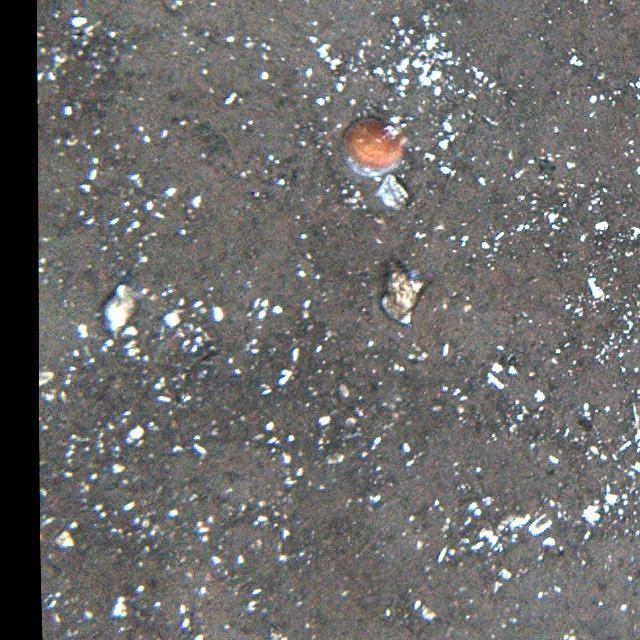whelk: (390, 262, 419, 314)
